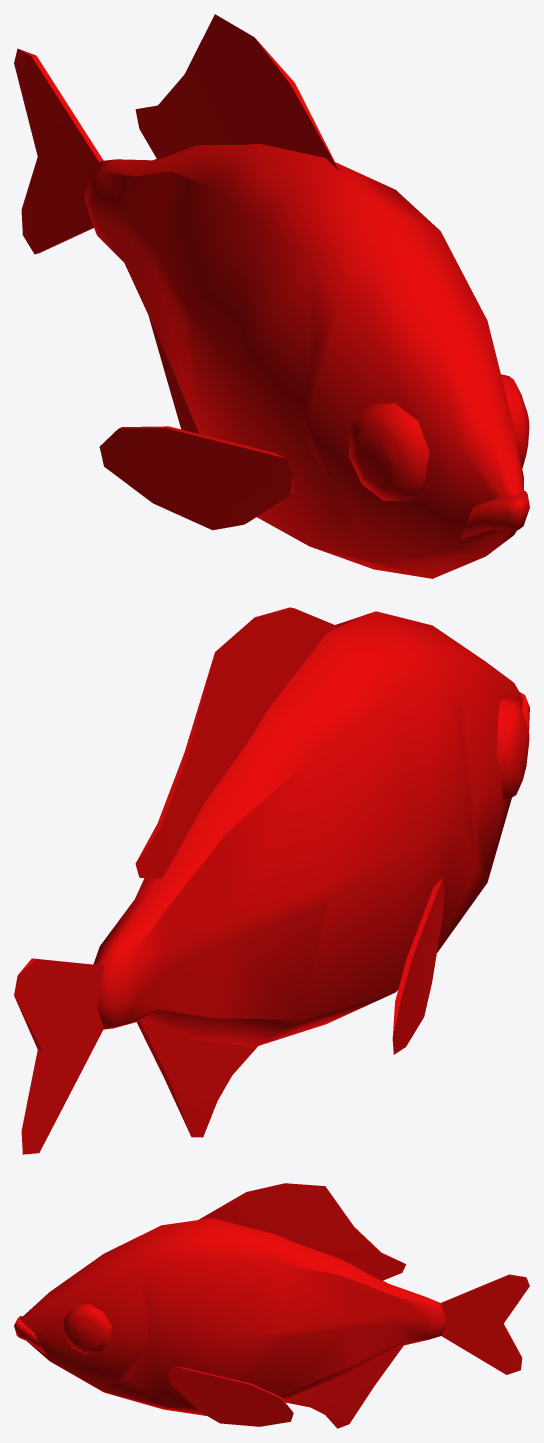
3 views of the same model, one above another, from view 1: azimuth 30°, elevation 25°; view 2: azimuth 150°, elevation 25°; view 3: azimuth 270°, elevation 25° (orthographic). The views are drawn at different scales.
Visible parts, largest first — view 1: Fish_Bitterling; view 2: Fish_Bitterling; view 3: Fish_Bitterling.
Part boxes in pixels (x1,y1,x2,y2): Fish_Bitterling: (14, 14, 529, 578); Fish_Bitterling: (14, 607, 529, 1154); Fish_Bitterling: (14, 1183, 529, 1428).
Bounding box in the file's own units: 0.0911 × 0.1433 × 0.2729.
